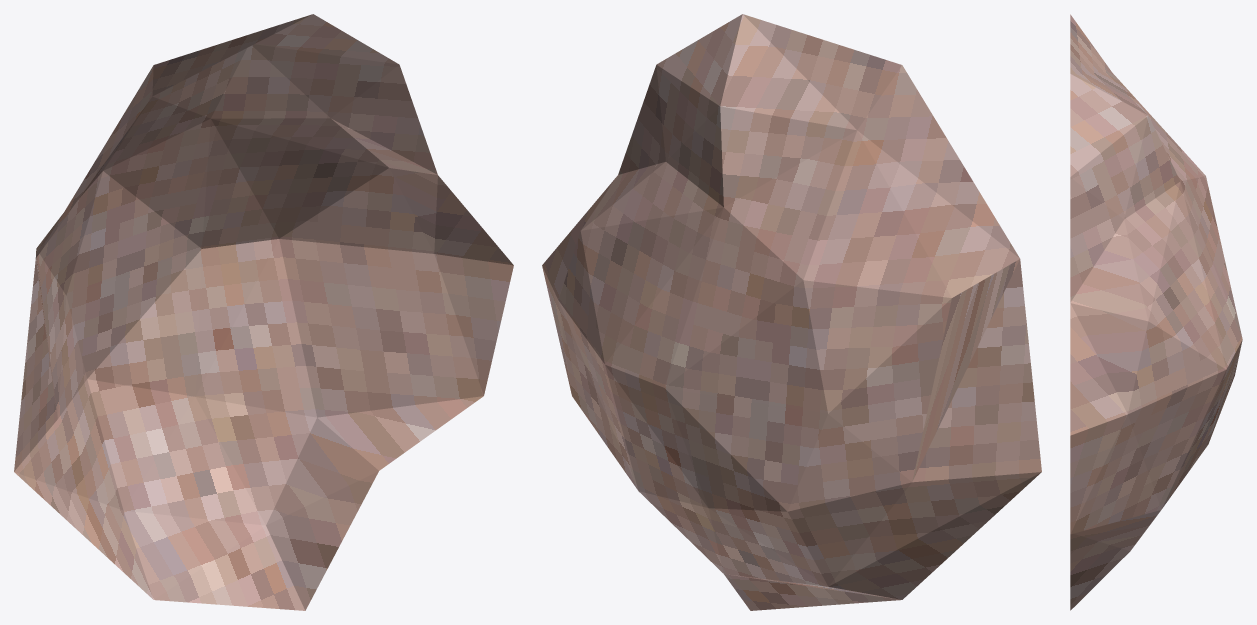
File: BR_Diglett.obj
The picture shows the model from 3 angles, left to right: view 1: azimuth 30°, elevation 25°; view 2: azimuth 150°, elevation 25°; view 3: azimuth 270°, elevation 25°; orthographic projection. The views are drawn at different scales.
Visible parts, largest first — view 1: digda; view 2: digda; view 3: digda.
Part boxes in pixels (box(x1,y1,x2,y2)): digda: box(14, 14, 513, 610); digda: box(542, 14, 1041, 610); digda: box(1070, 14, 1242, 610).
Size of the model in its own units: 1.58 by 1.8 by 0.5198.
Materials: 1 (1 with a texture image).
